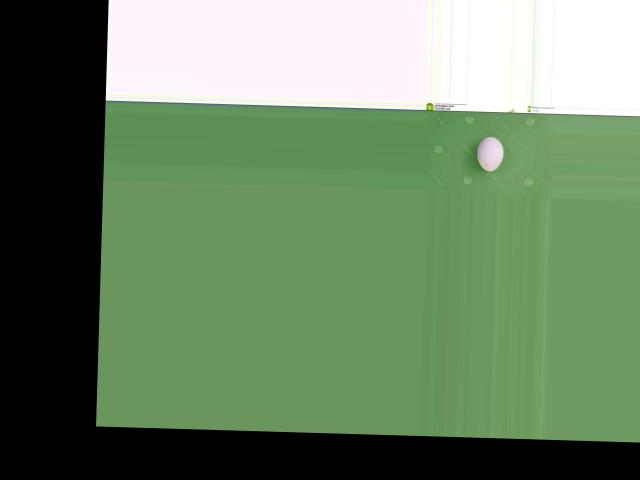egg: (476, 136, 504, 171)
